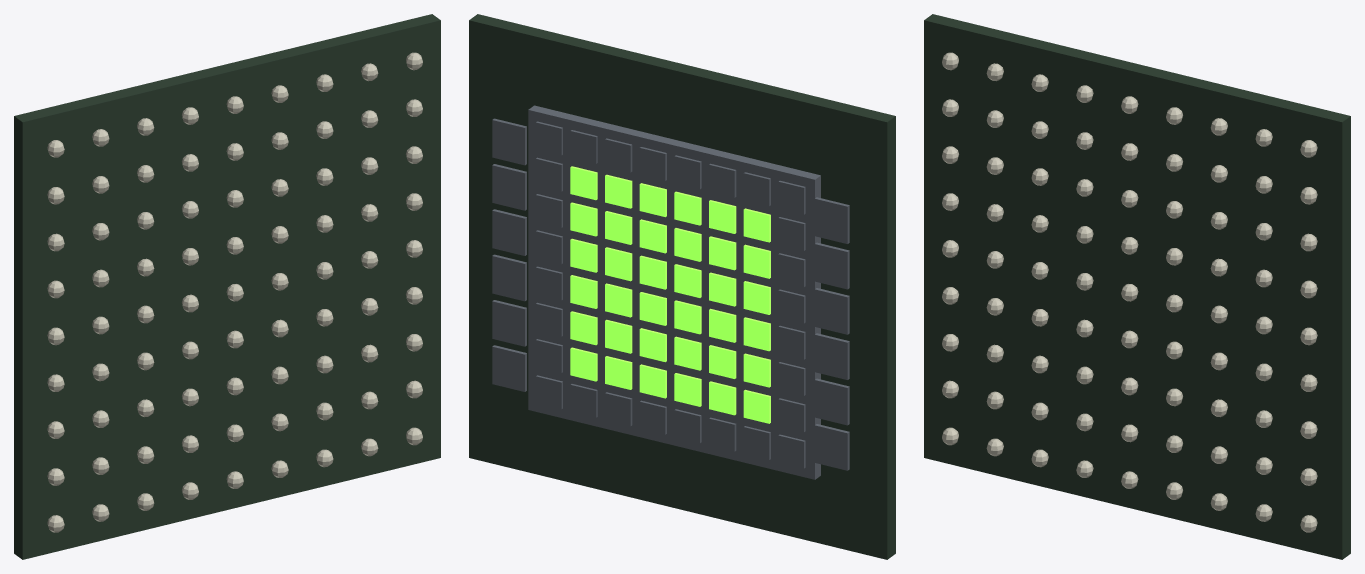
The model's file is tier-die.glb.
3 renders of one model, left to right at view 1: azimuth 30°, elevation 25°; view 2: azimuth 150°, elevation 25°; view 3: azimuth 330°, elevation 25°, orthographic.
Parts seen in each view (by area): view 1: Substrate; view 2: Substrate, Die_Silicon, Cache_L0, Cache_L1, Cache_L4, Cache_L2, Cache_L3, Cache_L5, Cache_R5, Cache_R1, Cache_R0, Cache_R2 (+66 smaller); view 3: Substrate.
Boxes of the visible parts, x1,y1,x2,y2 form: Substrate: [14, 14, 440, 559]; Substrate: [469, 14, 895, 559]; Die_Silicon: [528, 105, 820, 479]; Cache_L0: [814, 424, 849, 470]; Cache_L1: [814, 378, 849, 425]; Cache_L4: [814, 242, 849, 289]; Cache_L2: [814, 333, 849, 379]; Cache_L3: [814, 288, 849, 334]; Cache_L5: [814, 197, 849, 243]; Cache_R5: [492, 118, 526, 165]; Cache_R1: [492, 300, 526, 346]; Cache_R0: [492, 345, 526, 391]; Cache_R2: [492, 254, 526, 301]; Substrate: [924, 14, 1350, 559].
Size of the model in its own units: 14 by 14 by 1.44.
